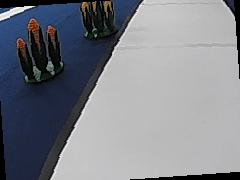corn: (15, 14, 67, 83), (76, 0, 121, 39)
